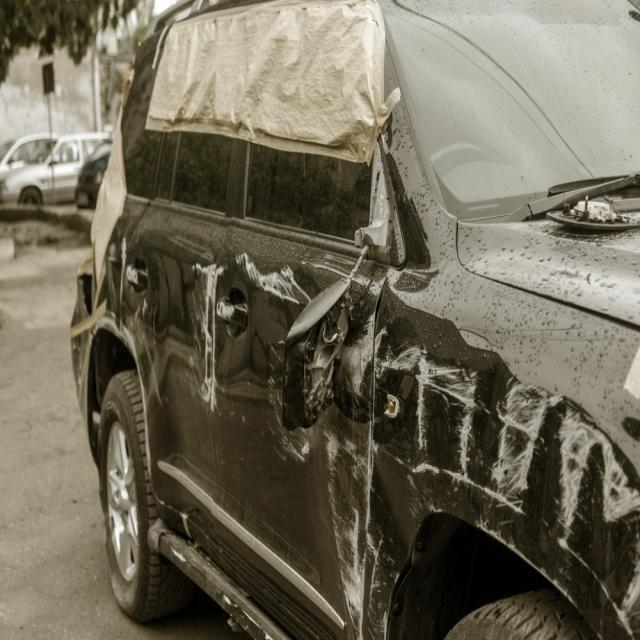scratch: (367, 340, 640, 638), (325, 312, 375, 640), (189, 256, 219, 410), (236, 251, 312, 305)
